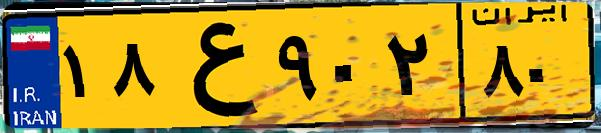0: (330, 28, 385, 110), (525, 38, 570, 115)
1: (57, 26, 110, 100)
2: (385, 28, 445, 110)
8: (475, 38, 525, 113), (110, 28, 158, 98)
9: (270, 28, 330, 110)
ع: (158, 12, 270, 120)
